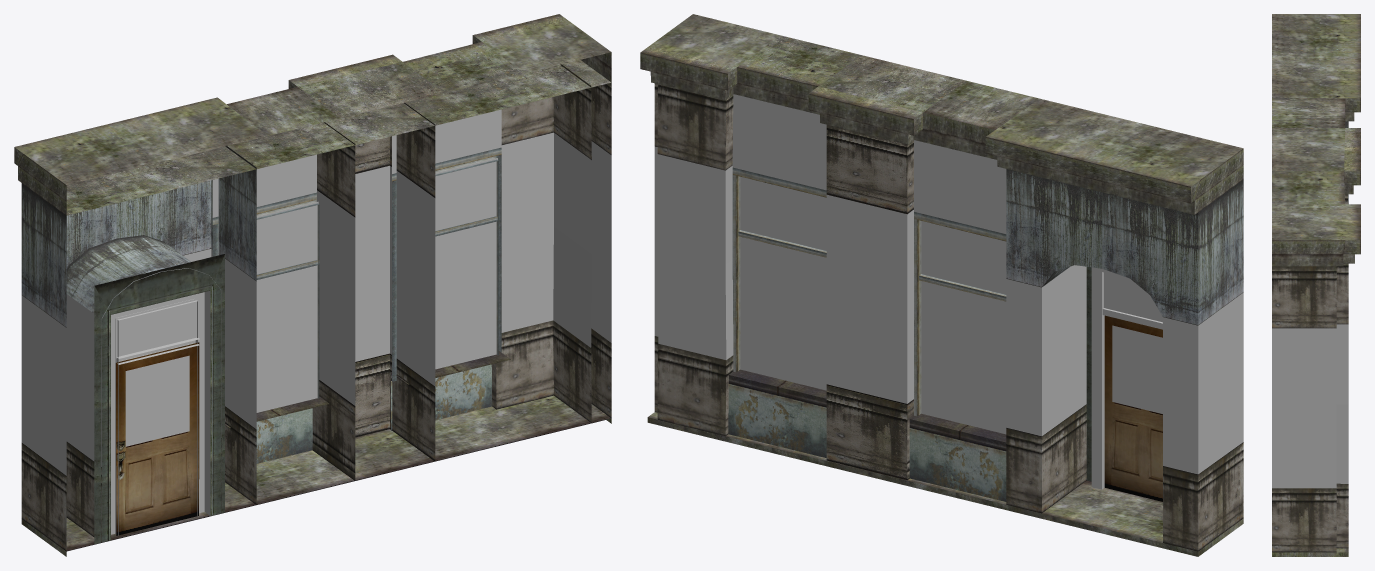
File: Store_front_41.fbx
The picture shows the model from 3 angles, left to right: view 1: azimuth 30°, elevation 25°; view 2: azimuth 150°, elevation 25°; view 3: azimuth 270°, elevation 25°; orthographic projection. The views are drawn at different scales.
Parts seen in each view (by area): view 1: Store_front_41; view 2: Store_front_41; view 3: Store_front_41.
Boxes of the visible parts, x1=… form: Store_front_41: x1=14, y1=14, x2=611, y2=556; Store_front_41: x1=640, y1=14, x2=1243, y2=556; Store_front_41: x1=1272, y1=14, x2=1360, y2=556.
Bounding box in the file's own units: 700 × 456 × 116.
